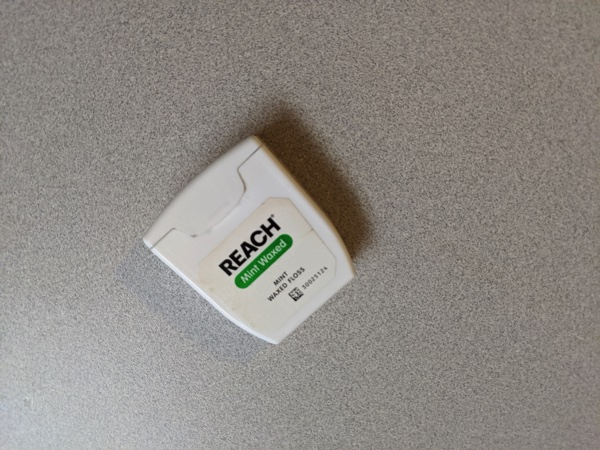plastic: (120, 122, 380, 353)
